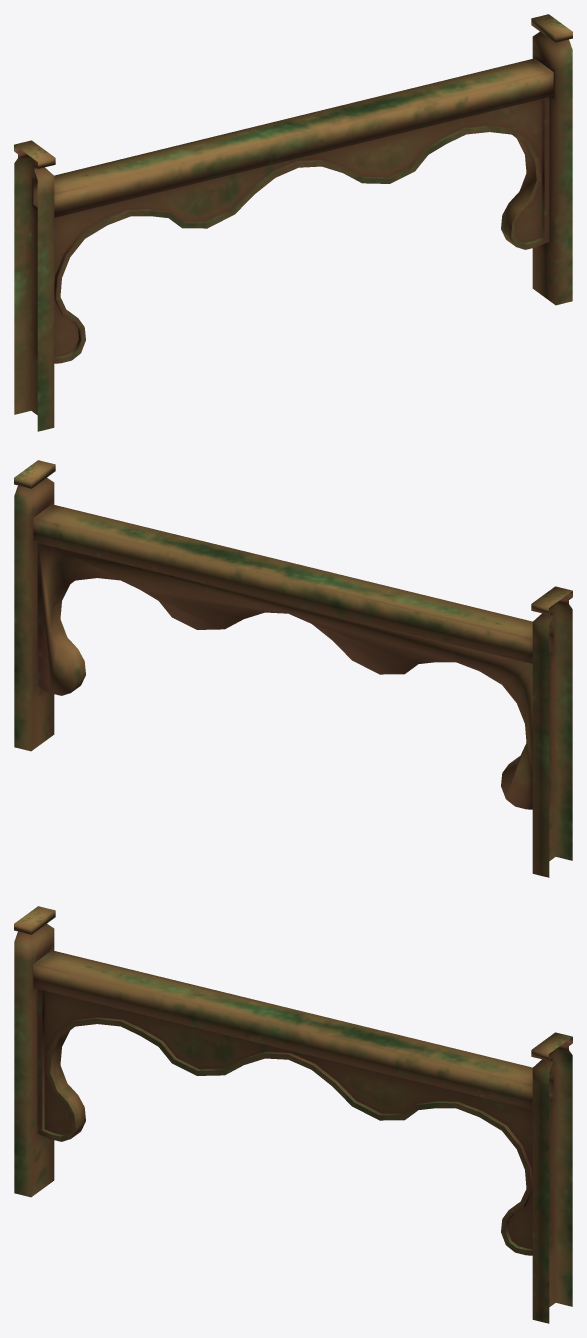
File: ArchMiddle.fbx
The picture shows the model from 3 angles, top to bottom: view 1: azimuth 30°, elevation 25°; view 2: azimuth 150°, elevation 25°; view 3: azimuth 330°, elevation 25°; orthographic projection.
Parts seen in each view (by area): view 1: Cube.112; view 2: Cube.112; view 3: Cube.112.
Boxes of the visible parts, <box> form: Cube.112: <box>14,14,572,431</box>; Cube.112: <box>14,460,572,877</box>; Cube.112: <box>14,906,572,1323</box>.
Size of the model in its own units: 4 by 1.93 by 0.3127.
